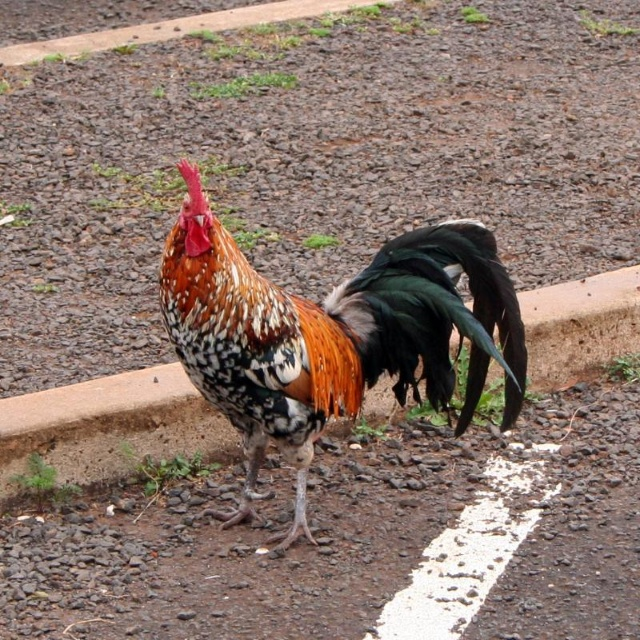Chicken: (169, 163, 469, 544)
